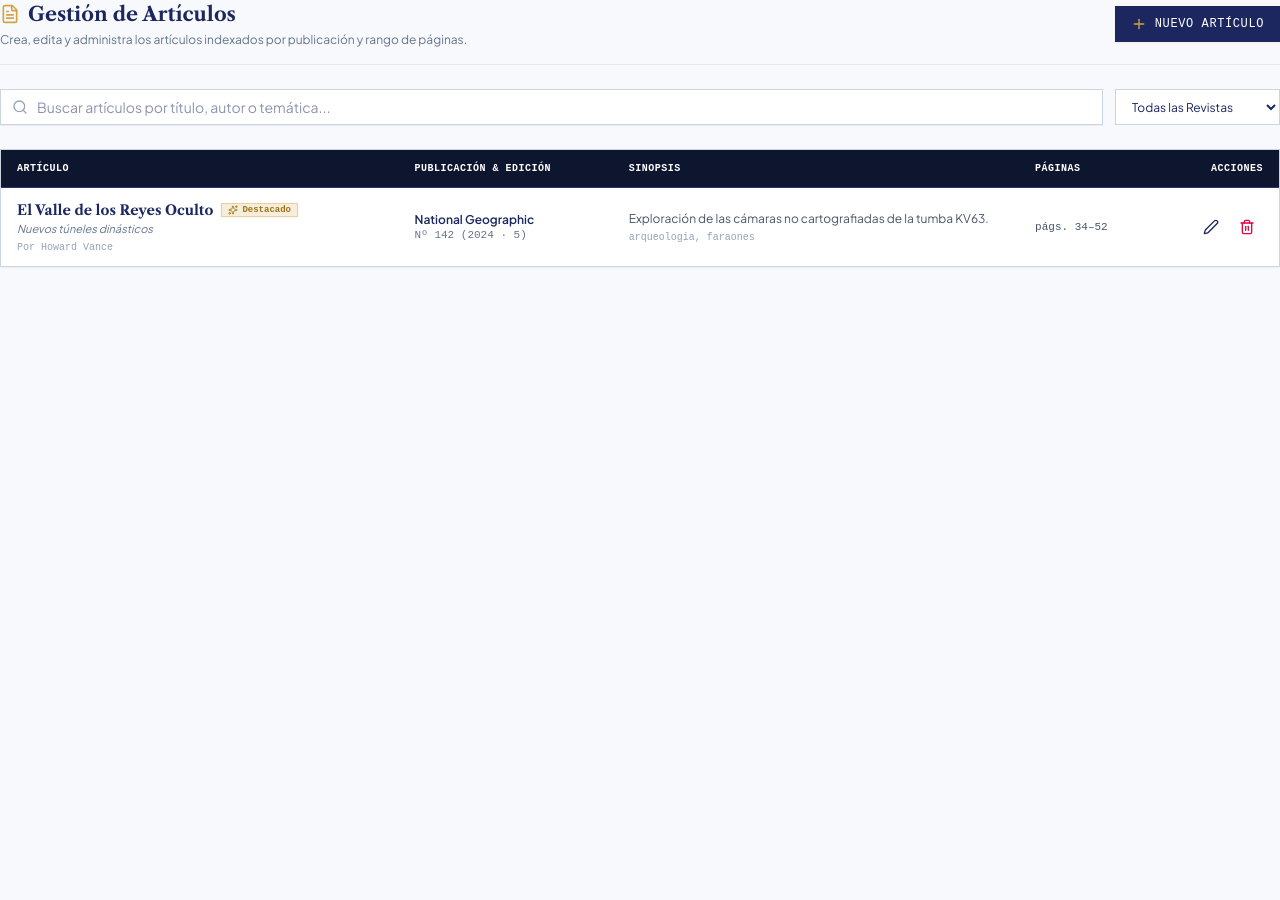
Test: ArticleManagementSection Component › opens create modal when clicking "Nuevo Artículo"
The image size is (1280, 900).
Expected: the table with test id "articles-table" is shown, [1,150,1279,266]
Click the button with test id "article-create-btn": coordinates (1197, 24) [1115,6,1279,42]
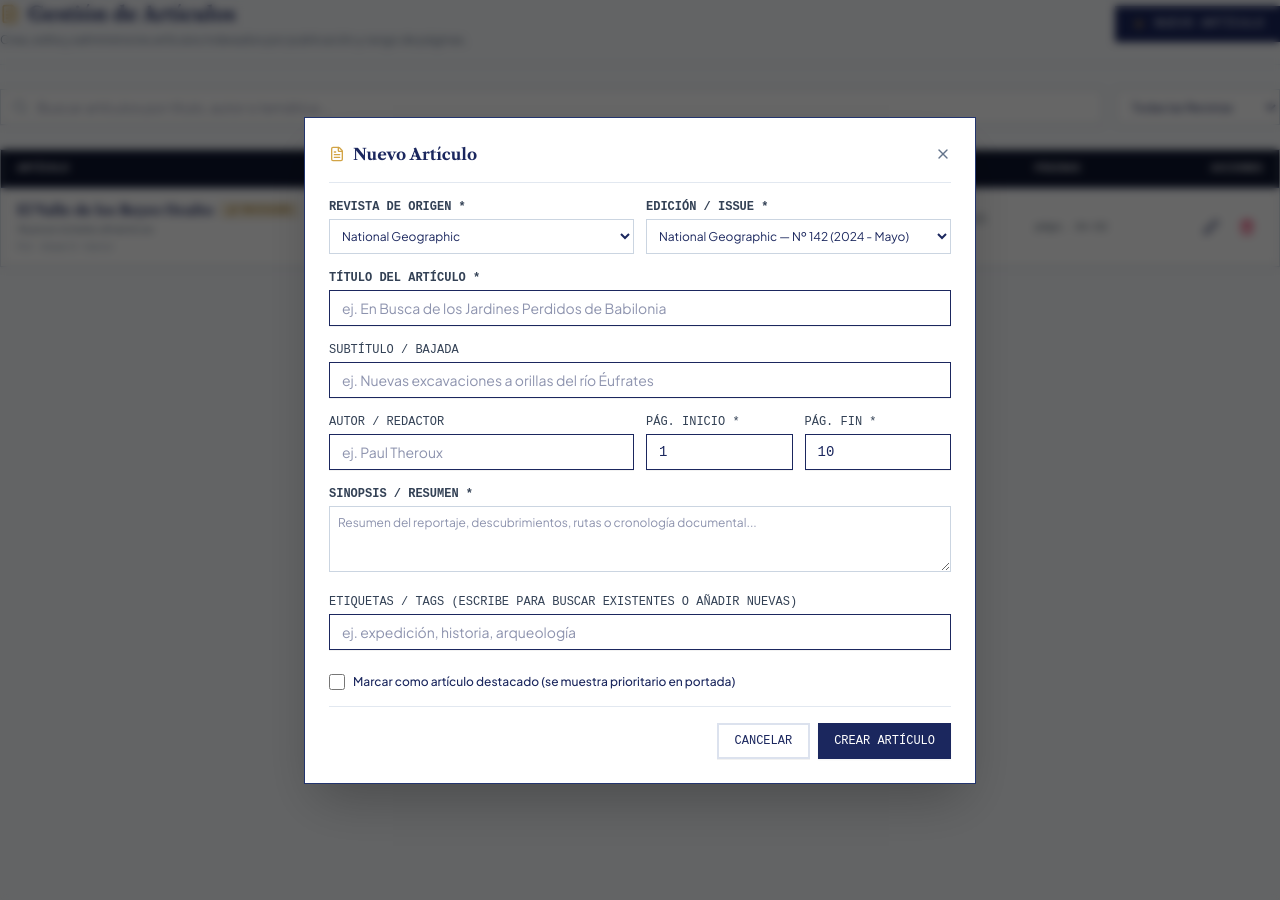
Expected: the element with test id "article-form-modal" is shown
Expected: the field with test id "article-form-title" is shown, [329,290,951,326]
Expected: the button with test id "article-submit-btn" reads "Crear Artículo", [818,722,951,758]
